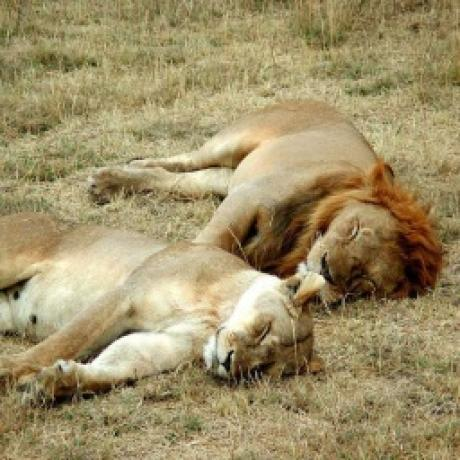Lion: (86, 98, 449, 307), (0, 202, 329, 403)
